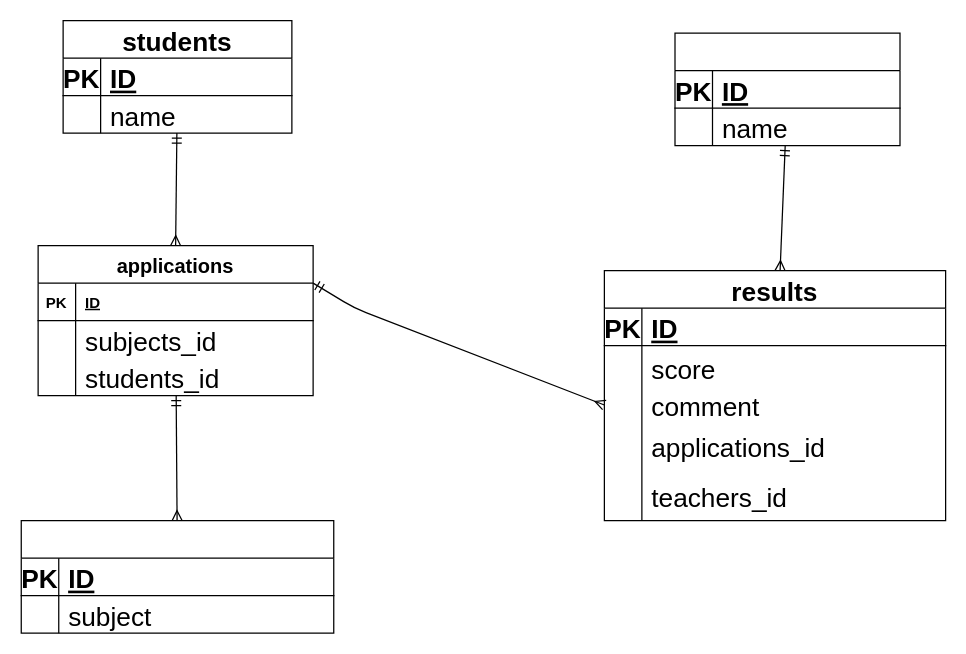
The diagram is 966 pixels wide and 654 high, and some of its shapes have lost their labels. Here are the shapes that lost their labels. From the top down, the box of each, then its label:
(674, 32, 900, 146): teachers
(20, 519, 334, 633): subjects
